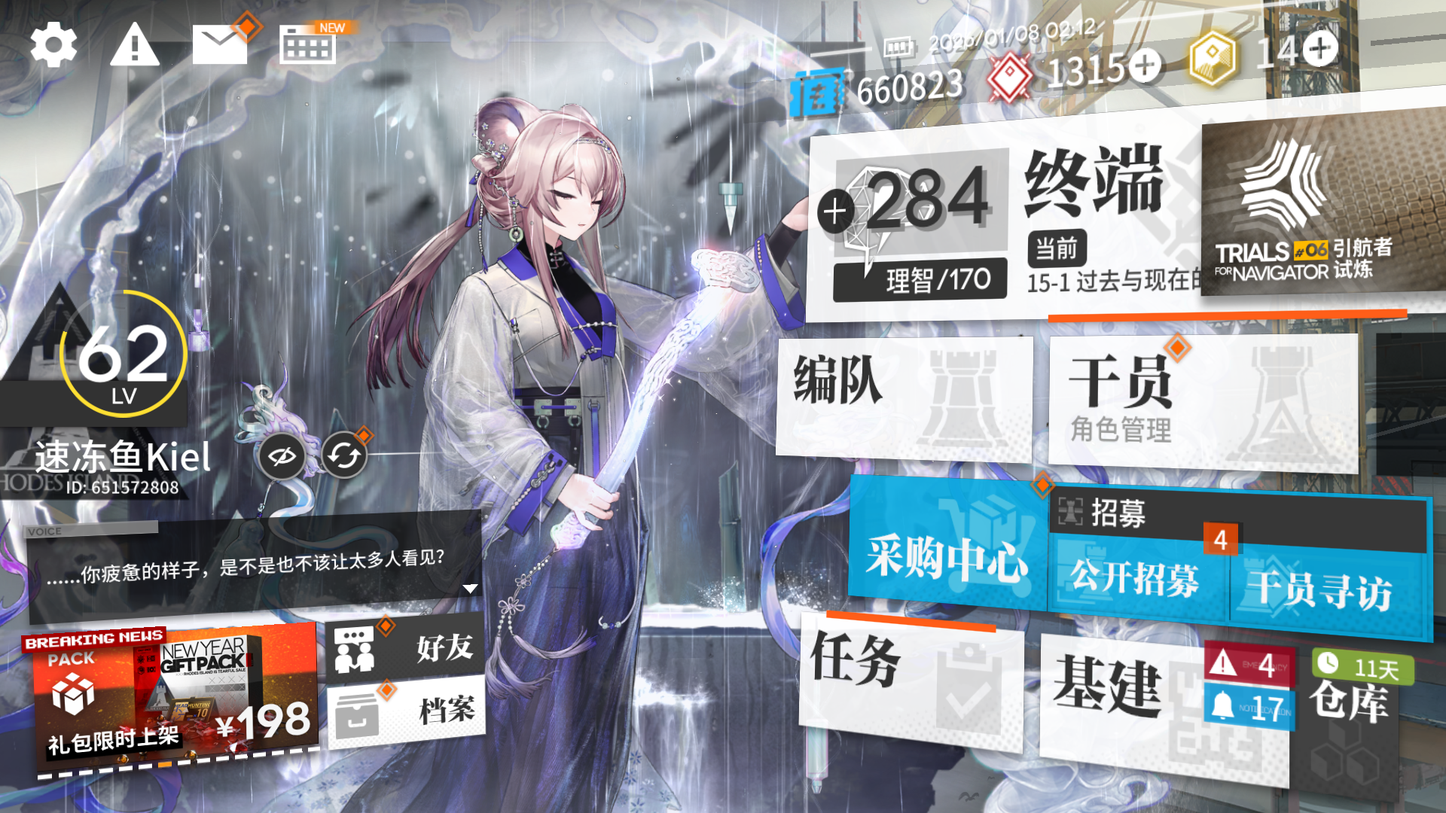home_button: (1007, 145, 1179, 234)
infrastructure_button: (1044, 653, 1264, 754)
